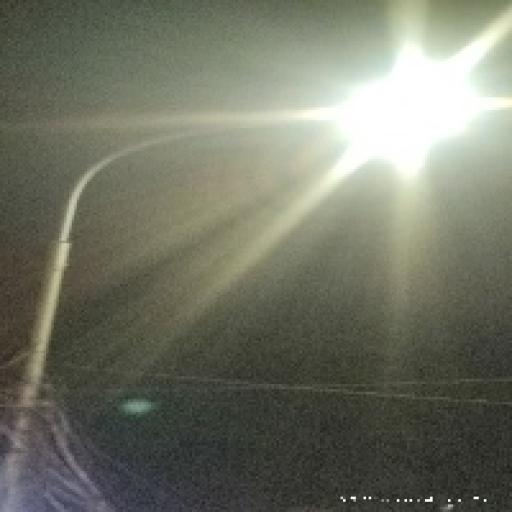Working: (317, 41, 512, 177)
